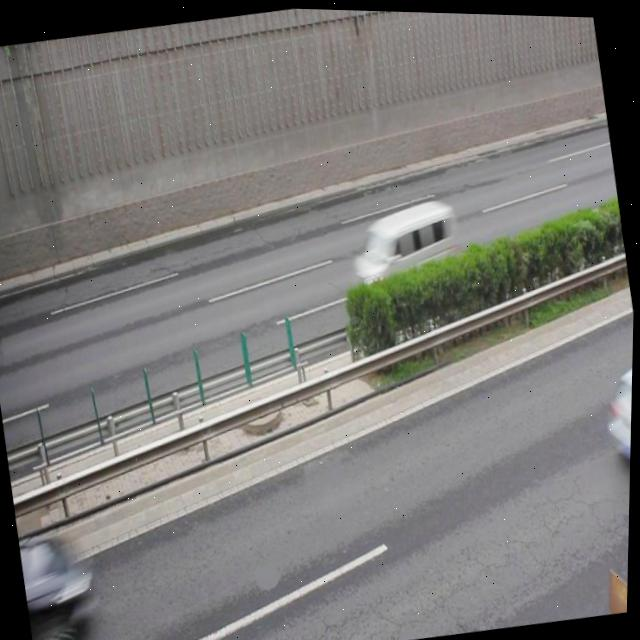truck: (341, 191, 467, 308)
